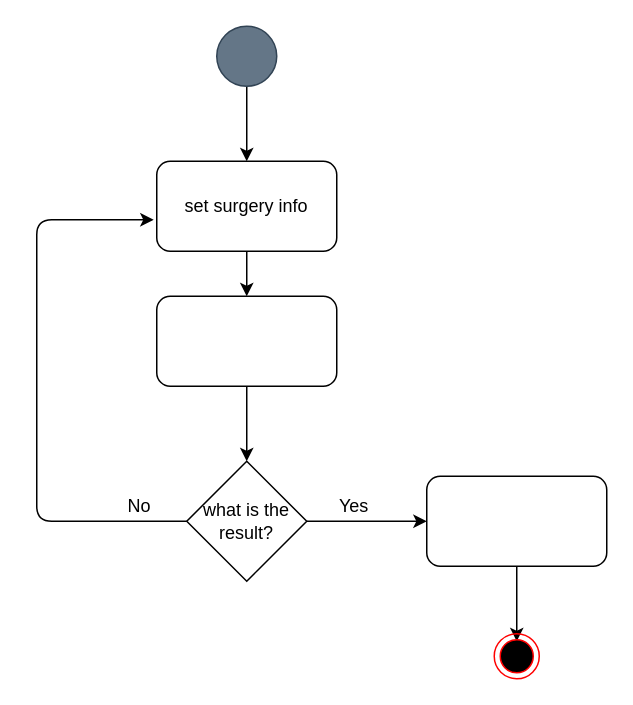
Image size: 633x705. Some labels were removed from this diagram. The shapes that lost their labels are listed below. From the top down, each one's centre as x and y in pixels, then its label:
At point (246, 340): "request online visit".
At point (516, 520): "set surgery time scheduling".
